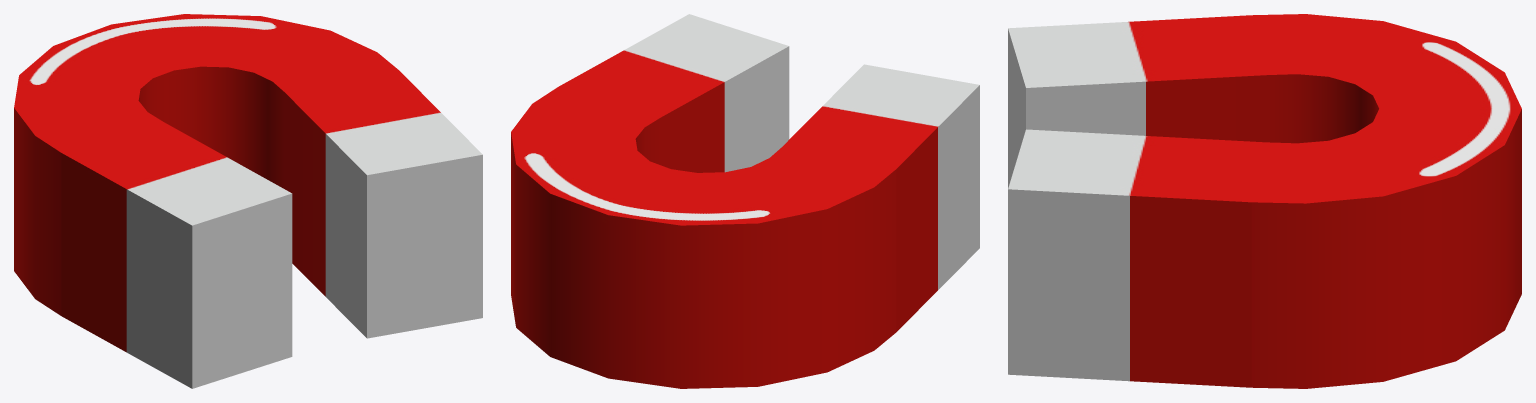
Rendered from citie.FBX.
The picture shows the model from 3 angles, left to right: view 1: azimuth 30°, elevation 25°; view 2: azimuth 150°, elevation 25°; view 3: azimuth 270°, elevation 25°; orthographic projection. The views are drawn at different scales.
Parts seen in each view (by area): view 1: citie; view 2: citie; view 3: citie.
Part boxes in pixels (bbox=[...]): citie: bbox=[14, 14, 482, 388]; citie: bbox=[511, 14, 979, 388]; citie: bbox=[1008, 14, 1521, 388].
Size of the model in its own units: 8.63 by 3.94 by 9.89.
1 material, 1 textured.
